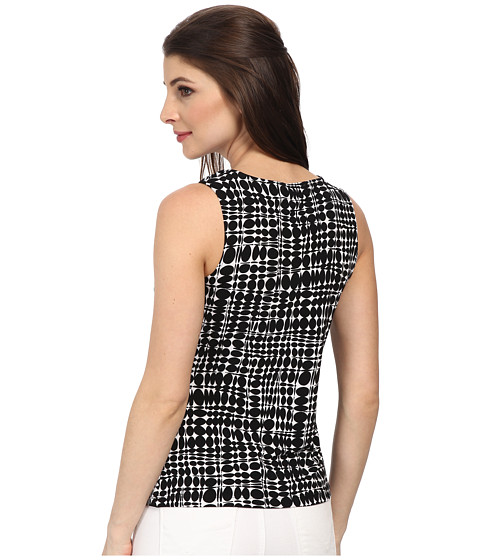C_tank top: (140, 154, 345, 515)
